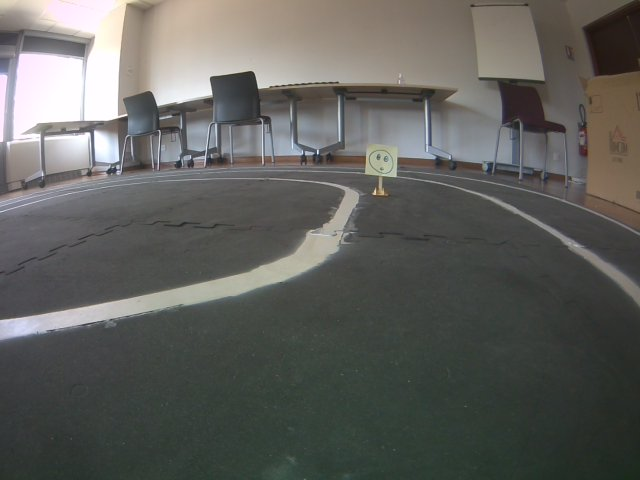Smiley: (364, 143, 399, 178)
